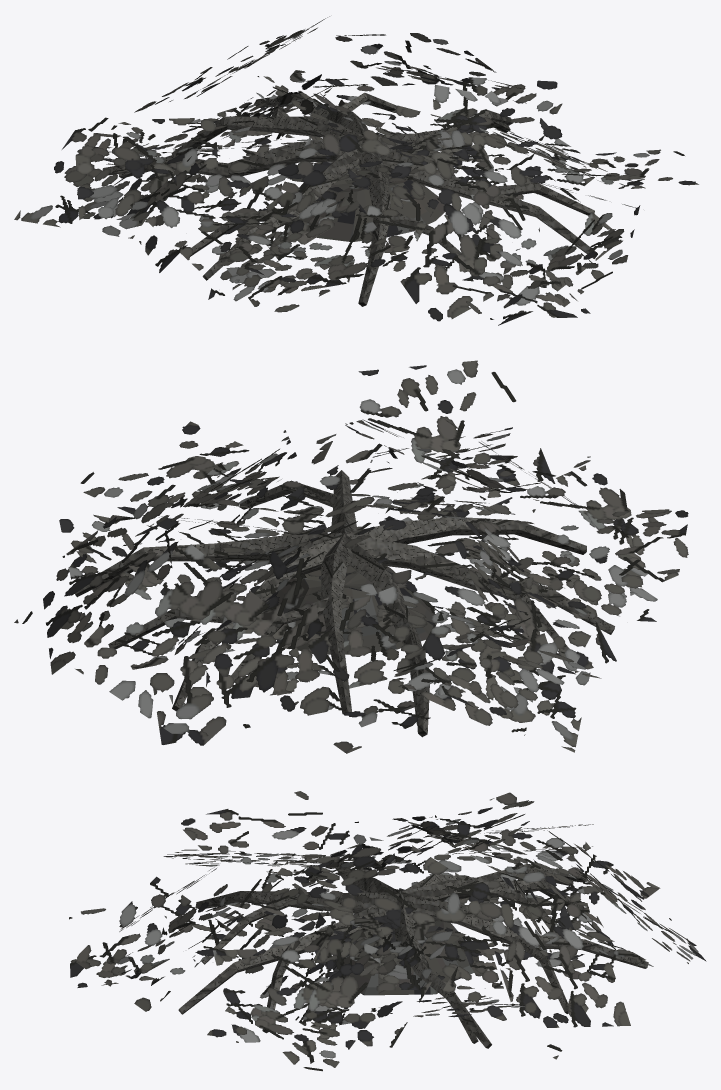
File: CrePlant01a.glb
The picture shows the model from 3 angles, top to bottom: view 1: azimuth 30°, elevation 25°; view 2: azimuth 150°, elevation 25°; view 3: azimuth 270°, elevation 25°; orthographic projection. The views are drawn at different scales.
Parts seen in each view (by area): view 1: p_core; view 2: p_core; view 3: p_core.
Part boxes in pixels (x1=…): p_core: x1=14, y1=16, x2=698, y2=325; p_core: x1=14, y1=360, x2=688, y2=753; p_core: x1=69, y1=791, x2=706, y2=1071.
Bounding box in the file's own units: 2.35 × 0.48 × 2.63.
3 materials, 3 textured.
